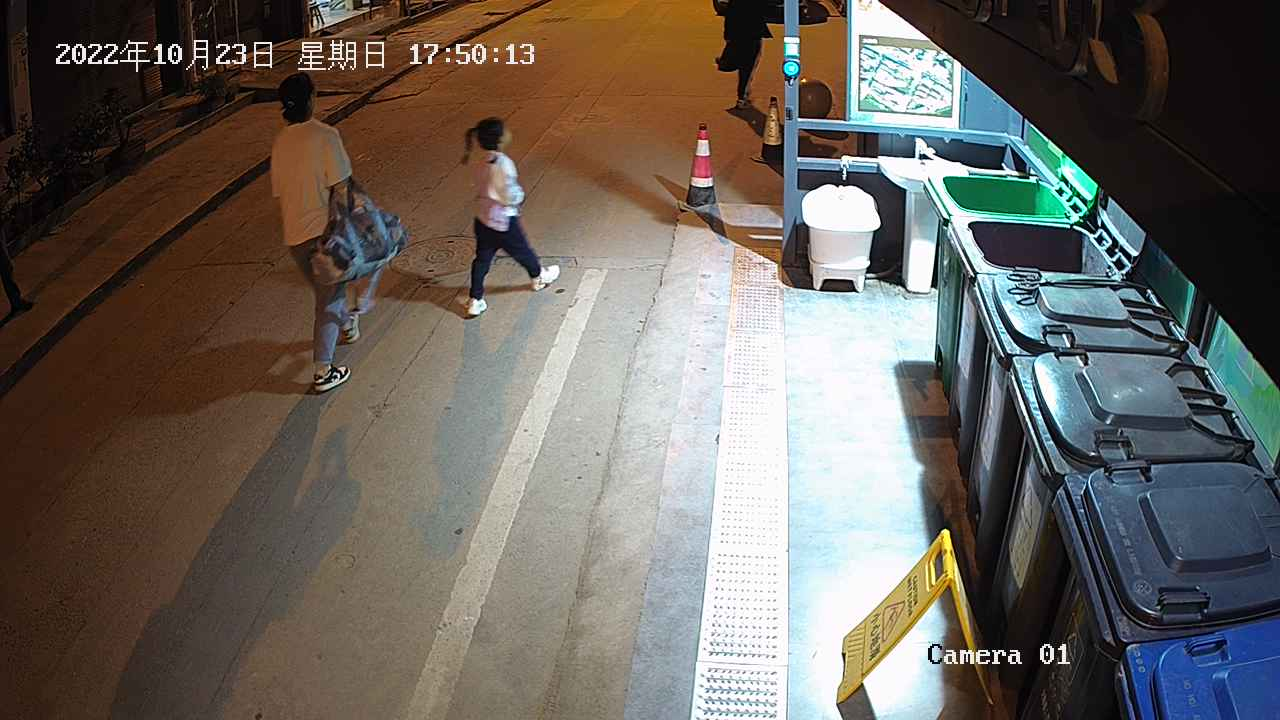person: (267, 65, 413, 395), (458, 115, 561, 320)
